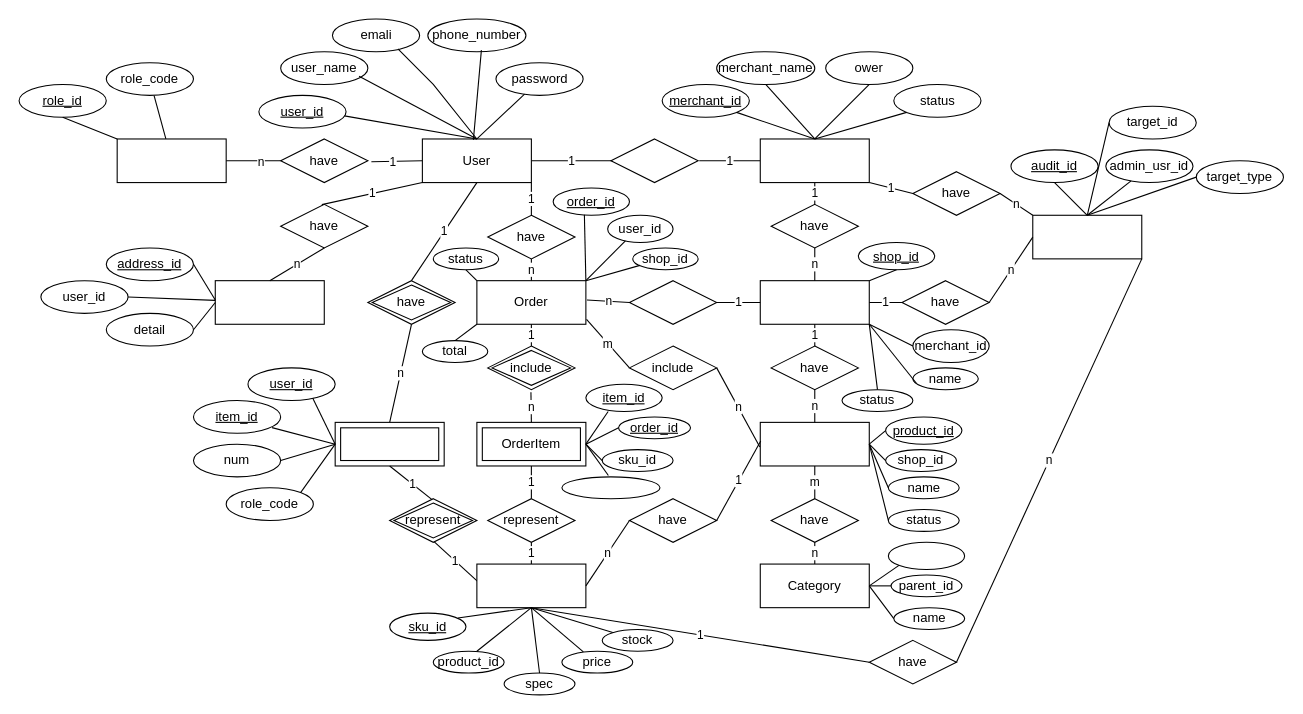
This 1303x714 diagram has some shape labels left out. The centre of each missing label's shape, as x and y in pixels:
Address: the point at 269,302
AuditLog: the point at 1087,236
Cartltem: the point at 389,443
category_id: the point at 926,555
manage: the point at 672,302
Merchant: the point at 814,160
price_snapshot: the point at 610,487
Product: the point at 814,443
register: the point at 654,160
Role: the point at 171,160
Shop: the point at 814,302
SKU: the point at 531,585
